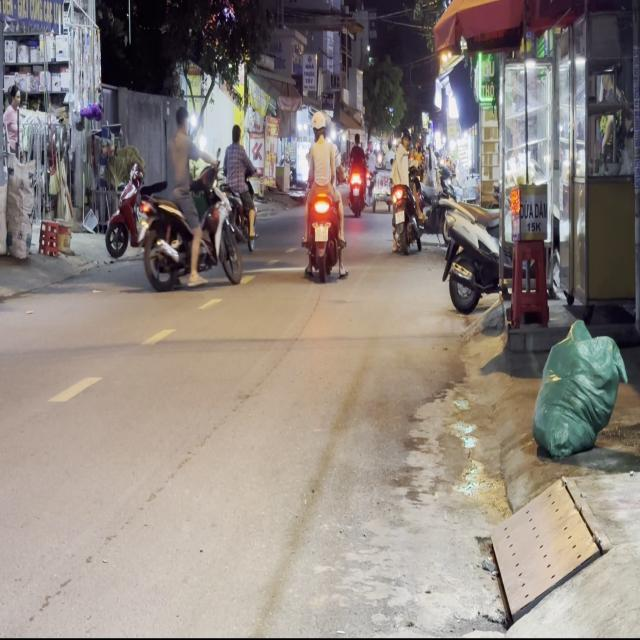helmet: (311, 109, 326, 138)
licenseplate: (137, 100, 247, 292), (299, 108, 346, 281), (216, 120, 258, 266)
motorcyclist: (173, 104, 188, 133), (230, 121, 240, 143)
nohelmet: (314, 226, 328, 243)
